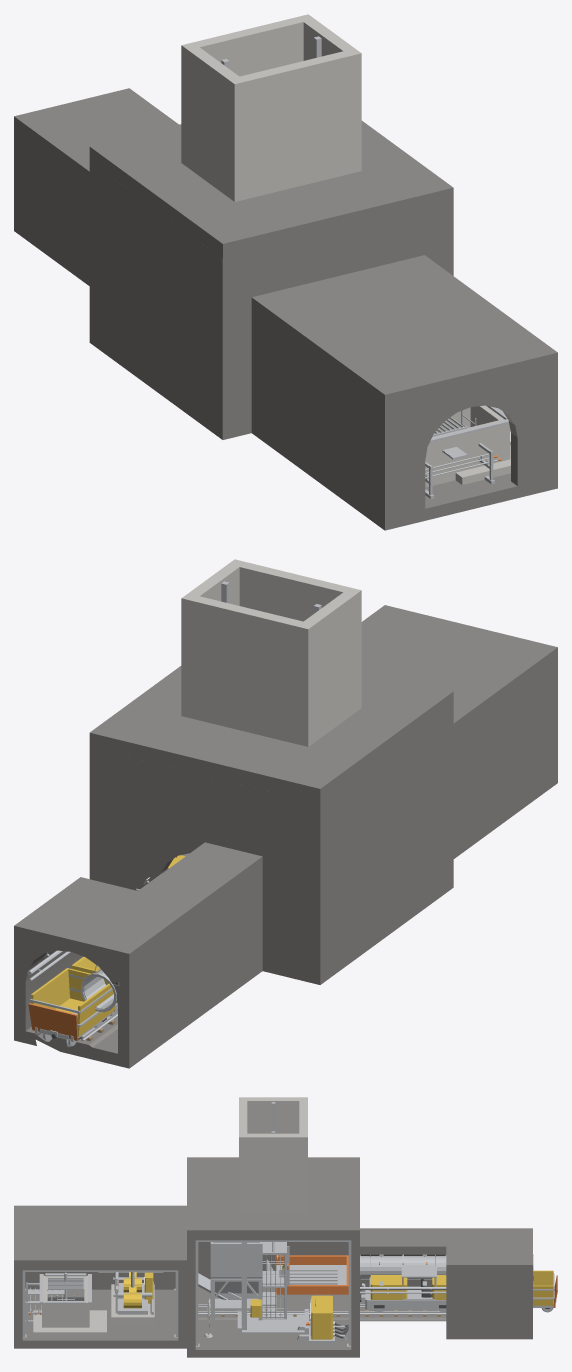
The picture shows the model from 3 angles, top to bottom: view 1: azimuth 30°, elevation 25°; view 2: azimuth 150°, elevation 25°; view 3: azimuth 270°, elevation 25°; orthographic projection. The views are drawn at different scales.
Parts seen in each view (by area): view 1: 000-shaft-station-cutaway/0, 003-drift-chamber-cutaway/0, 000-shaft-station-cutaway/2, 002-drift-straight-4m/0, 016-drainage-sump/0, 001-drift-cutaway-study/0, 019-drill-steel-rack/0, 016-drainage-sump/2, 003-drift-chamber-cutaway/2; view 2: 000-shaft-station-cutaway/0, 000-shaft-station-cutaway/2, 003-drift-chamber-cutaway/0, 002-drift-straight-4m/0, 001-drift-cutaway-study/0, 011-ore-cart-end-tipping/body/paint, 011-ore-cart-end-tipping/body/hiVis, 021-vent-duct-run/0; view 3: 000-shaft-station-cutaway/0, 003-drift-chamber-cutaway/0, 002-drift-straight-4m/0, 000-shaft-station-cutaway/2, 012-loading-pocket/0, 000-shaft-station-cutaway/1, 001-drift-cutaway-study/0, 016-drainage-sump/0, 009-battery-locomotive/0, 013-ore-pass-raise-collar/2, 020-vent-duct-run/0, 004-man-cage/0 (+16 smaller).
Part boxes in pixels (bbox=[...]): 000-shaft-station-cutaway/0: bbox=[89, 120, 453, 439]; 003-drift-chamber-cutaway/0: bbox=[251, 255, 557, 530]; 000-shaft-station-cutaway/2: bbox=[181, 14, 361, 201]; 002-drift-straight-4m/0: bbox=[14, 88, 178, 279]; 016-drainage-sump/0: bbox=[425, 405, 510, 487]; 001-drift-cutaway-study/0: bbox=[80, 163, 89, 285]; 019-drill-steel-rack/0: bbox=[425, 443, 498, 498]; 016-drainage-sump/2: bbox=[429, 405, 508, 442]; 003-drift-chamber-cutaway/2: bbox=[455, 445, 510, 484]; 000-shaft-station-cutaway/0: bbox=[89, 666, 453, 984]; 000-shaft-station-cutaway/2: bbox=[181, 559, 361, 746]; 003-drift-chamber-cutaway/0: bbox=[361, 605, 557, 858]; 002-drift-straight-4m/0: bbox=[14, 877, 195, 1068]; 001-drift-cutaway-study/0: bbox=[139, 842, 262, 1019]; 011-ore-cart-end-tipping/body/paint: bbox=[31, 968, 115, 1036]; 011-ore-cart-end-tipping/body/hiVis: bbox=[28, 1003, 78, 1040]; 021-vent-duct-run/0: bbox=[81, 965, 117, 1012]; 000-shaft-station-cutaway/0: bbox=[187, 1157, 359, 1357]; 003-drift-chamber-cutaway/0: bbox=[14, 1205, 186, 1348]; 002-drift-straight-4m/0: bbox=[446, 1228, 532, 1339]; 000-shaft-station-cutaway/2: bbox=[239, 1097, 307, 1213]; 012-loading-pocket/0: bbox=[198, 1242, 262, 1320]; 000-shaft-station-cutaway/1: bbox=[195, 1102, 351, 1347]; 001-drift-cutaway-study/0: bbox=[360, 1228, 446, 1321]; 016-drainage-sump/0: bbox=[42, 1275, 89, 1327]; 009-battery-locomotive/0: bbox=[361, 1265, 446, 1309]; 013-ore-pass-raise-collar/2: bbox=[266, 1259, 348, 1296]; 020-vent-duct-run/0: bbox=[360, 1254, 446, 1281]; 004-man-cage/0: bbox=[260, 1242, 289, 1319].
Size of the model in its own units: 8 by 10.4 by 25.16.
